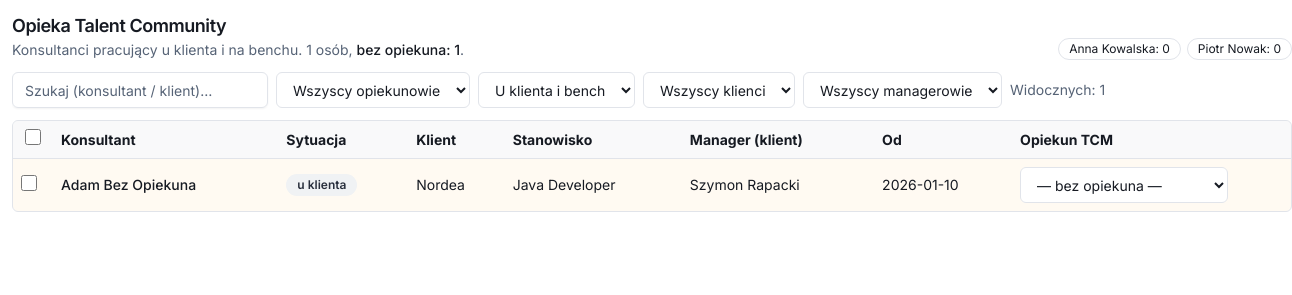
it: OpiekaPanel — masowe przypisanie › po przypisaniu wiersze mają nowego opiekuna, a zaznaczenie znika
Click the checkbox named "Zaznacz Adam Bez Opiekuna".
click(29, 182)  # box [21,174,37,190]
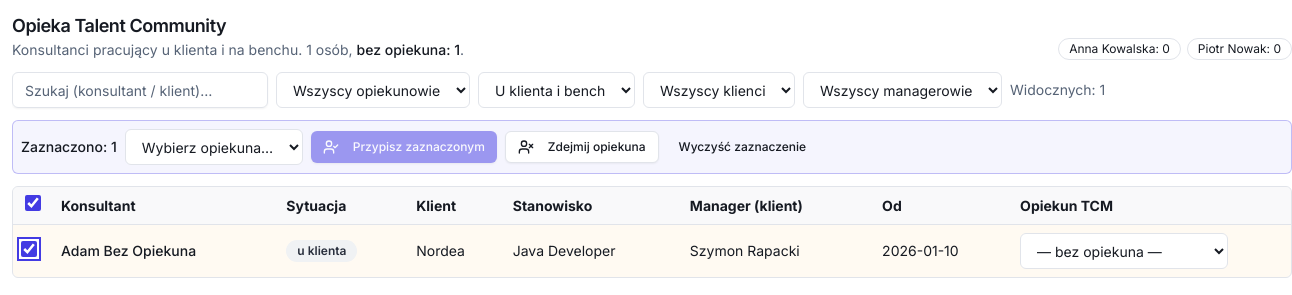
Select "Anna Kowalska" in the dropdown named "Opiekun do przypisania" at (214, 147), box [125,129,303,165]
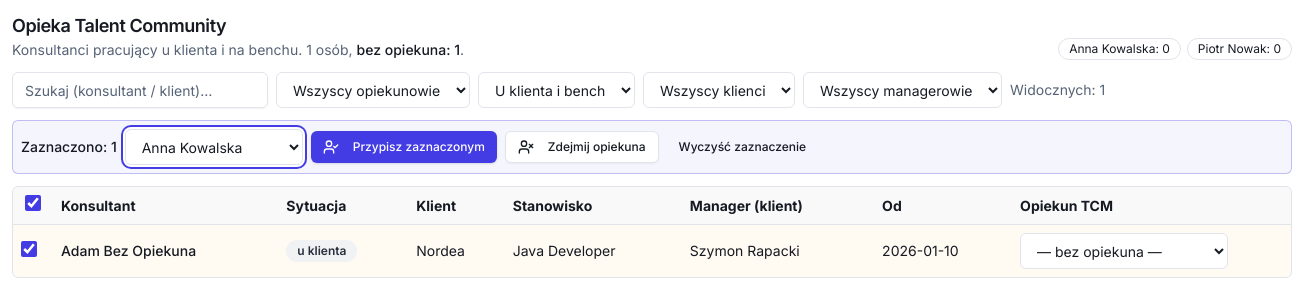
Click the button "Przypisz zaznaczonym".
click(404, 147)  # box [311,131,497,163]
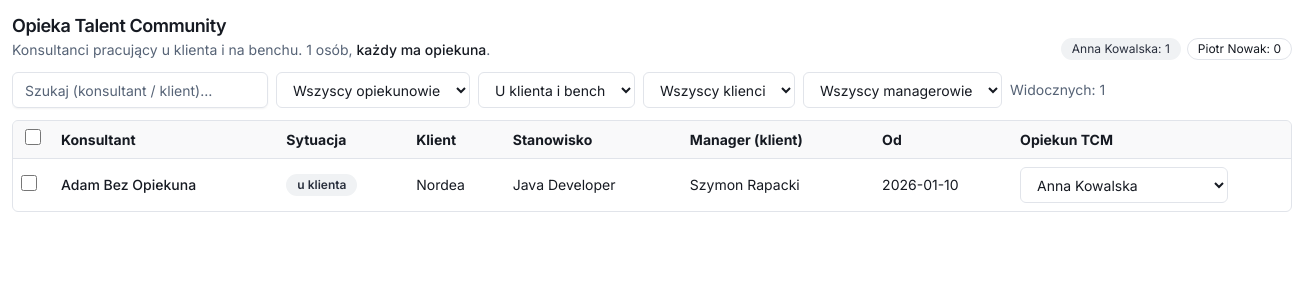
Expected: the text "Zaznaczono:" is gone
Expected: the text "każdy ma opiekuna" is shown, [356,41,486,58]
Expected: the dropdown named "Opiekun dla Adam Bez Opiekuna" shows "Anna Kowalska", [1020,167,1228,203]
